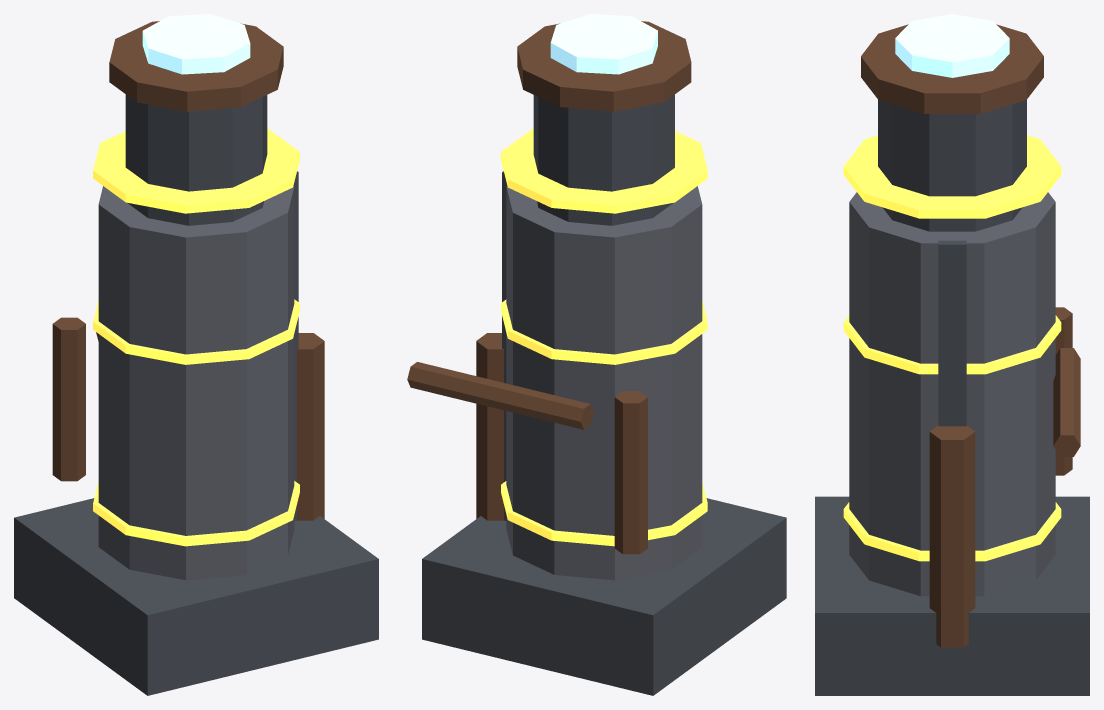
File: vent_stack.glb
3 renders of one model, left to right at view 1: azimuth 30°, elevation 25°; view 2: azimuth 150°, elevation 25°; view 3: azimuth 270°, elevation 25°, orthographic. The views are drawn at different scales.
Visible parts, largest first — view 1: vent_stack; view 2: vent_stack; view 3: vent_stack.
Part boxes in pixels (box(x1,y1,x2,y2)): vent_stack: box(14, 14, 378, 695); vent_stack: box(407, 14, 786, 695); vent_stack: box(815, 14, 1089, 695).
Size of the model in its own units: 2.6 by 5.77 by 2.4.
